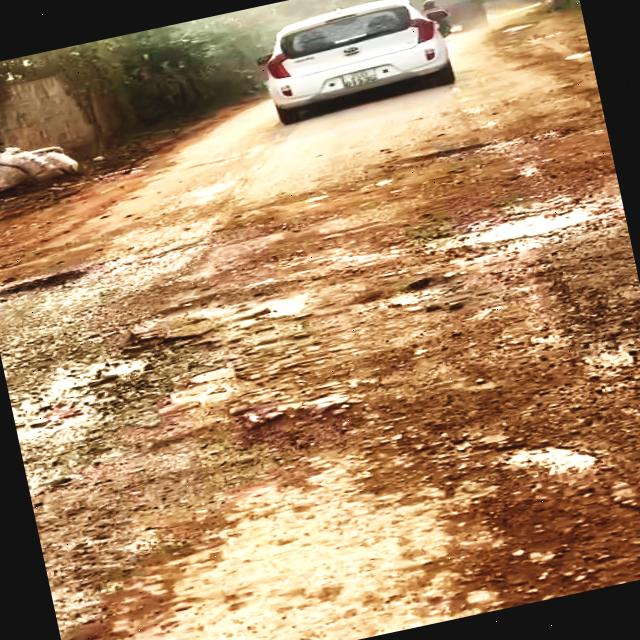pothole: (0, 276, 333, 482), (434, 391, 640, 600), (408, 181, 626, 262)
